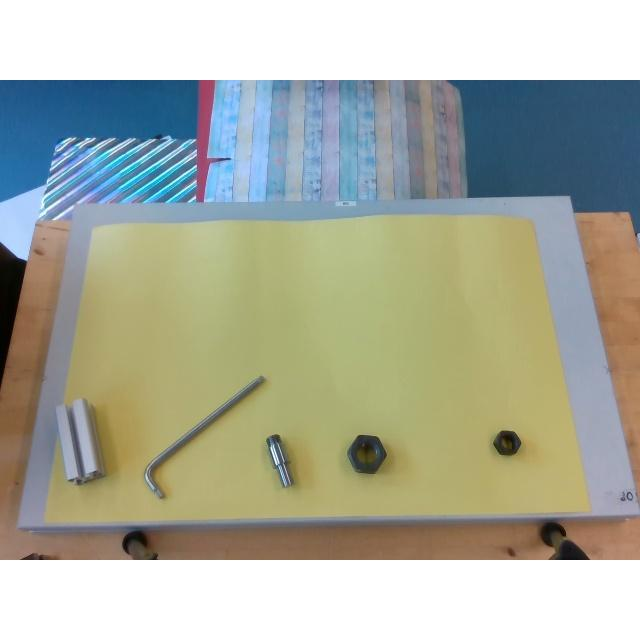AllenKey: (142, 374, 266, 498)
Axis2: (266, 434, 294, 486)
M20: (492, 430, 520, 454)
M30: (346, 434, 386, 474)
S40_40_G: (56, 398, 104, 482)
